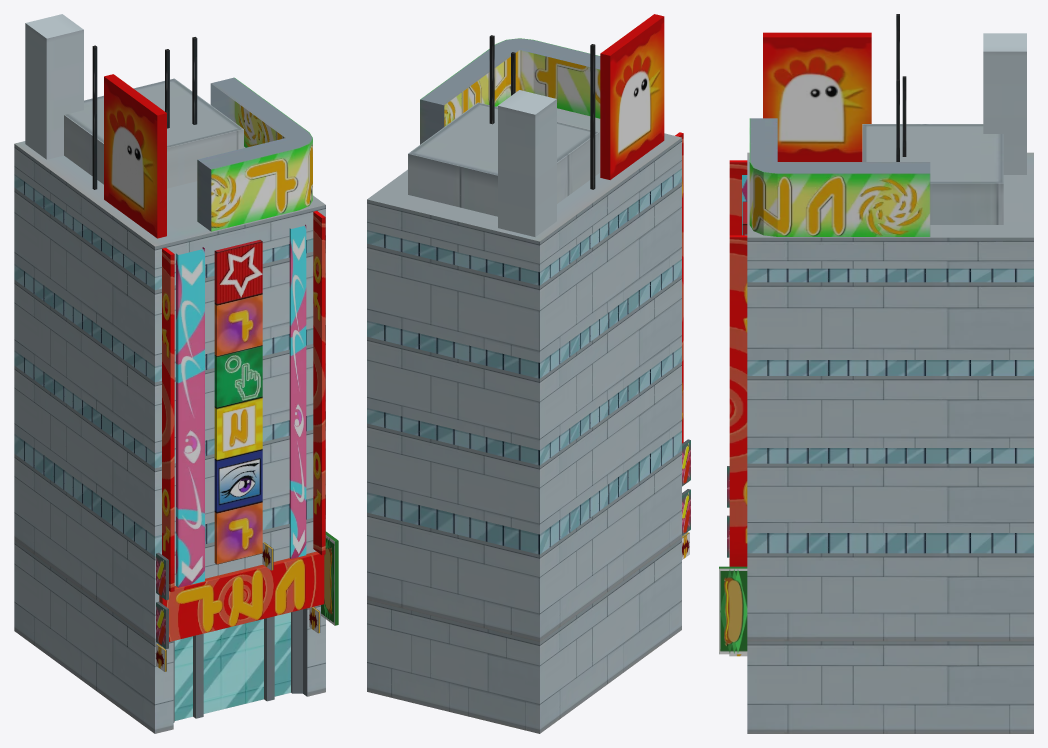
The model's file is japanese_bilboard_building_01.glb.
The picture shows the model from 3 angles, left to right: view 1: azimuth 30°, elevation 25°; view 2: azimuth 150°, elevation 25°; view 3: azimuth 270°, elevation 25°; orthographic projection.
Visible parts, largest first — view 1: billboard_building_b01; view 2: billboard_building_b01; view 3: billboard_building_b01.
Part boxes in pixels (x1=…): billboard_building_b01: x1=14, y1=14, x2=338, y2=733; billboard_building_b01: x1=367, y1=14, x2=690, y2=733; billboard_building_b01: x1=719, y1=14, x2=1033, y2=733.
Size of the model in its own units: 7 by 24.64 by 10.96.
Materials: 1 (1 with a texture image).
